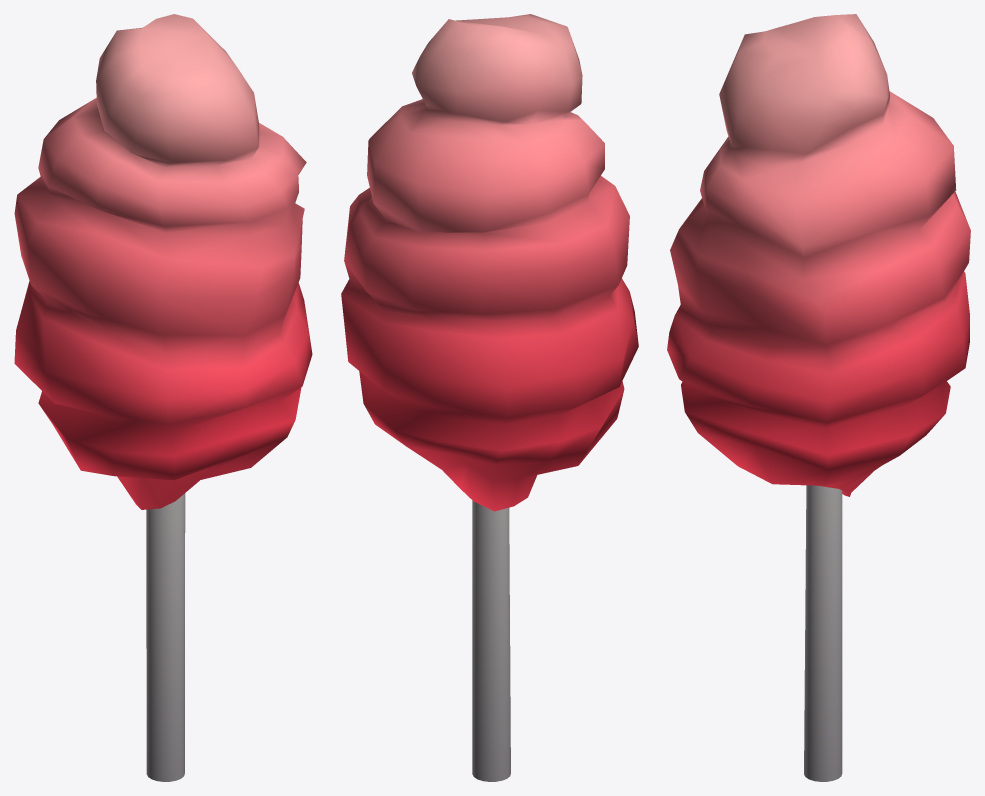
The model's file is Cotton_Candy_Tree_01.fbx.
3 views of the same model, side by side, from view 1: azimuth 30°, elevation 25°; view 2: azimuth 150°, elevation 25°; view 3: azimuth 270°, elevation 25° (orthographic).
Parts seen in each view (by area): view 1: Cotton_Candy_Tree_01; view 2: Cotton_Candy_Tree_01; view 3: Cotton_Candy_Tree_01.
Boxes of the visible parts, <box> form: Cotton_Candy_Tree_01: <box>14,14,312,781</box>; Cotton_Candy_Tree_01: <box>341,14,638,781</box>; Cotton_Candy_Tree_01: <box>667,14,970,781</box>.
Bounding box in the file's own units: 172 × 451 × 165.
